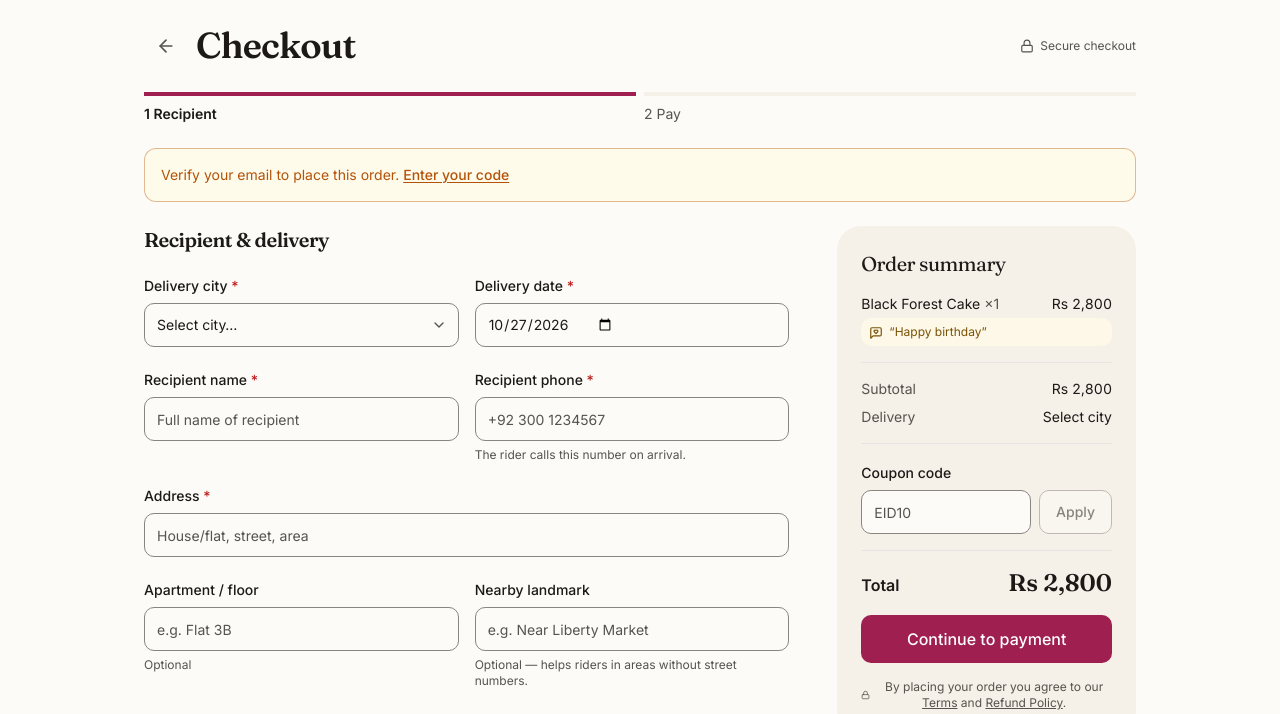
Scenario: CheckoutPage › asks for a city before applying a coupon
Type "eid10" into the field labelled "Coupon code" at [946, 512], box [861,490,1031,534]
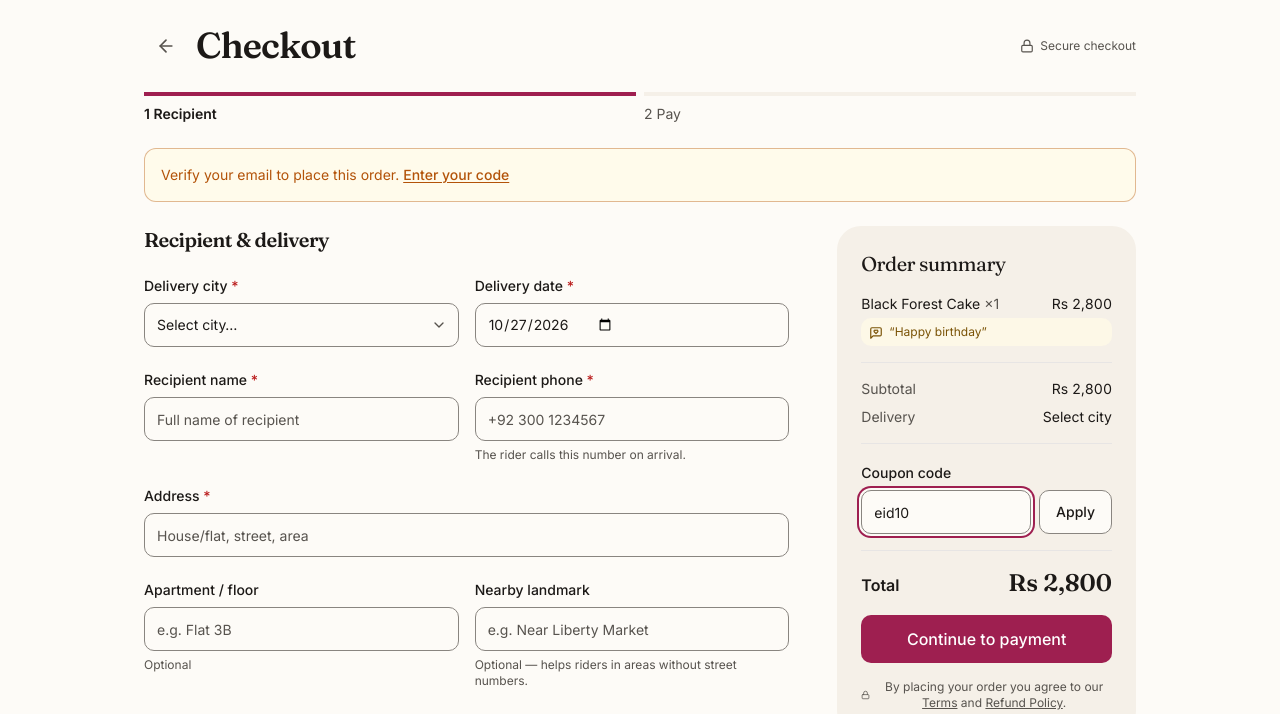
Click the button "Apply" at [1076, 512], box [1039,490,1112,534]
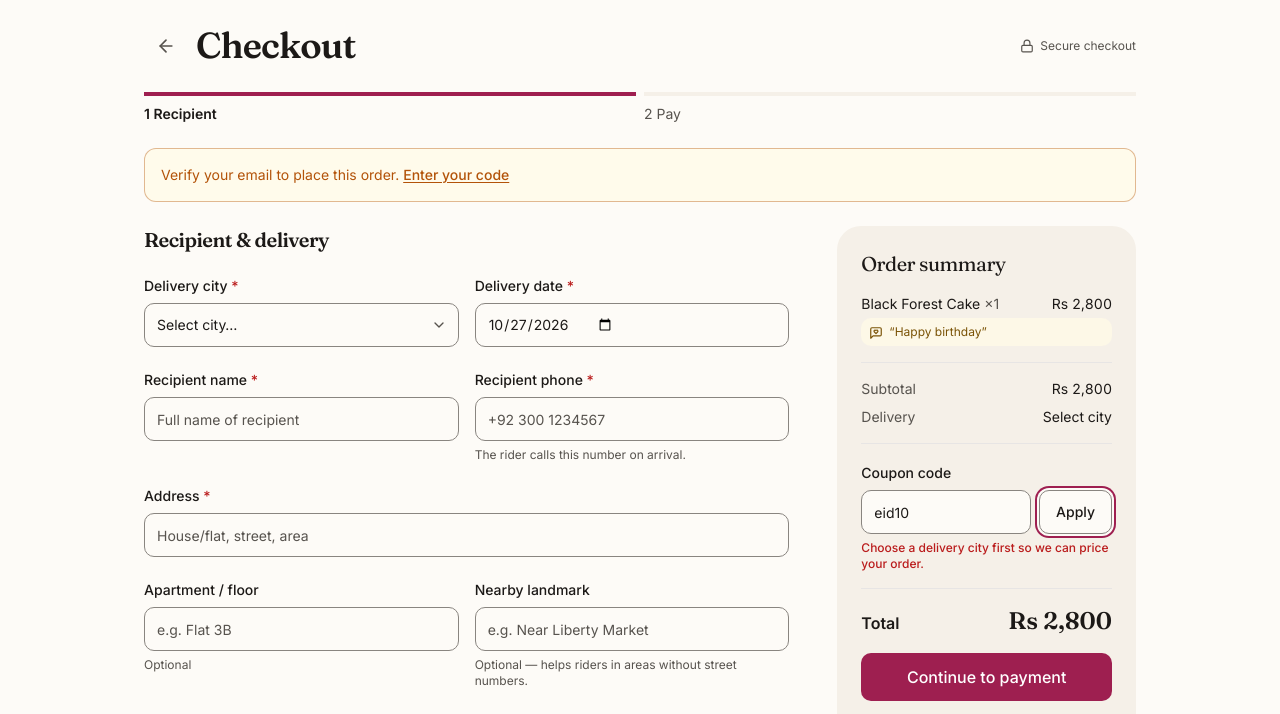
Result: the message "Choose a delivery city first so we can price your order." is shown at [861,540,1108,571]
